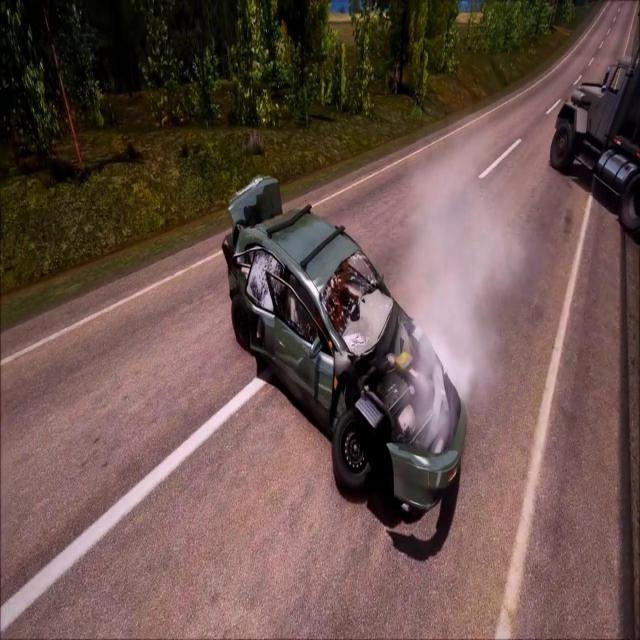accident: (220, 166, 470, 518)
